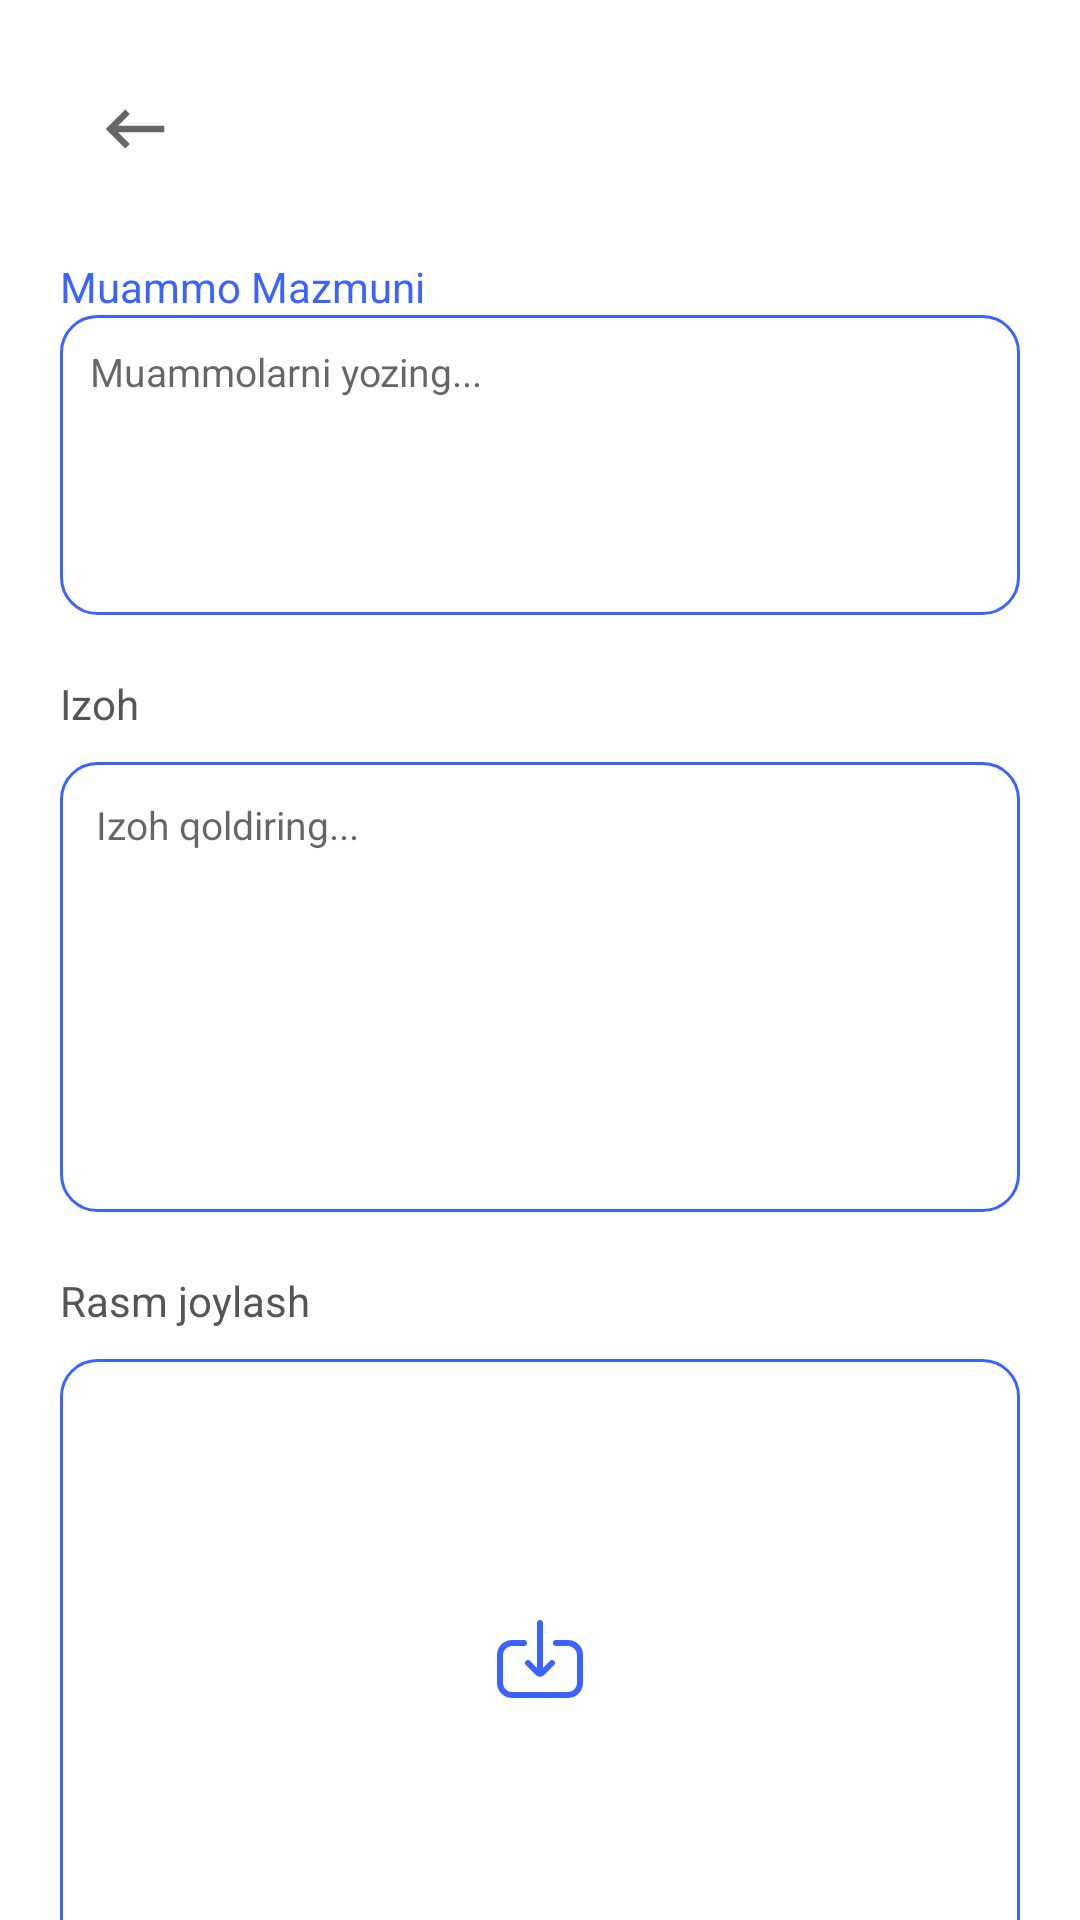

Icon click points for this 1080px x 1920px phone screenshot, format [x,y]:
download: [540,1659]
keyboard backspace: [135,129]
